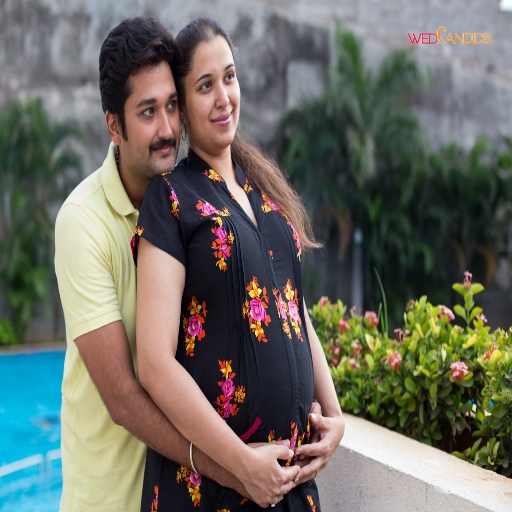hand: (245, 442, 300, 508), (244, 434, 291, 501), (292, 401, 323, 484)
